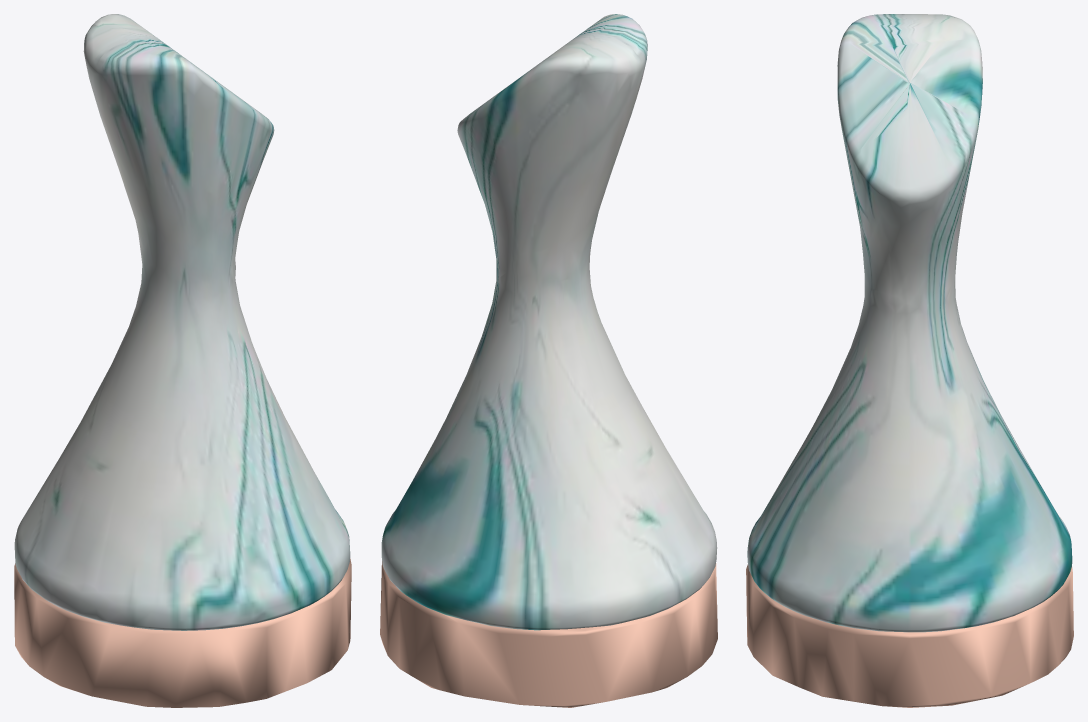
File: jezdec_bila.glb
3 renders of one model, left to right at view 1: azimuth 30°, elevation 25°; view 2: azimuth 150°, elevation 25°; view 3: azimuth 270°, elevation 25°, orthographic. The views are drawn at different scales.
Visible parts, largest first — view 1: jezdec_bila; view 2: jezdec_bila; view 3: jezdec_bila.
Part boxes in pixels (x1=…): jezdec_bila: x1=14, y1=14, x2=351, y2=707; jezdec_bila: x1=380, y1=14, x2=717, y2=707; jezdec_bila: x1=746, y1=14, x2=1073, y2=707.
Size of the model in its own units: 0.0578 by 0.1161 by 0.058.
Materials: 2 (1 with a texture image).
